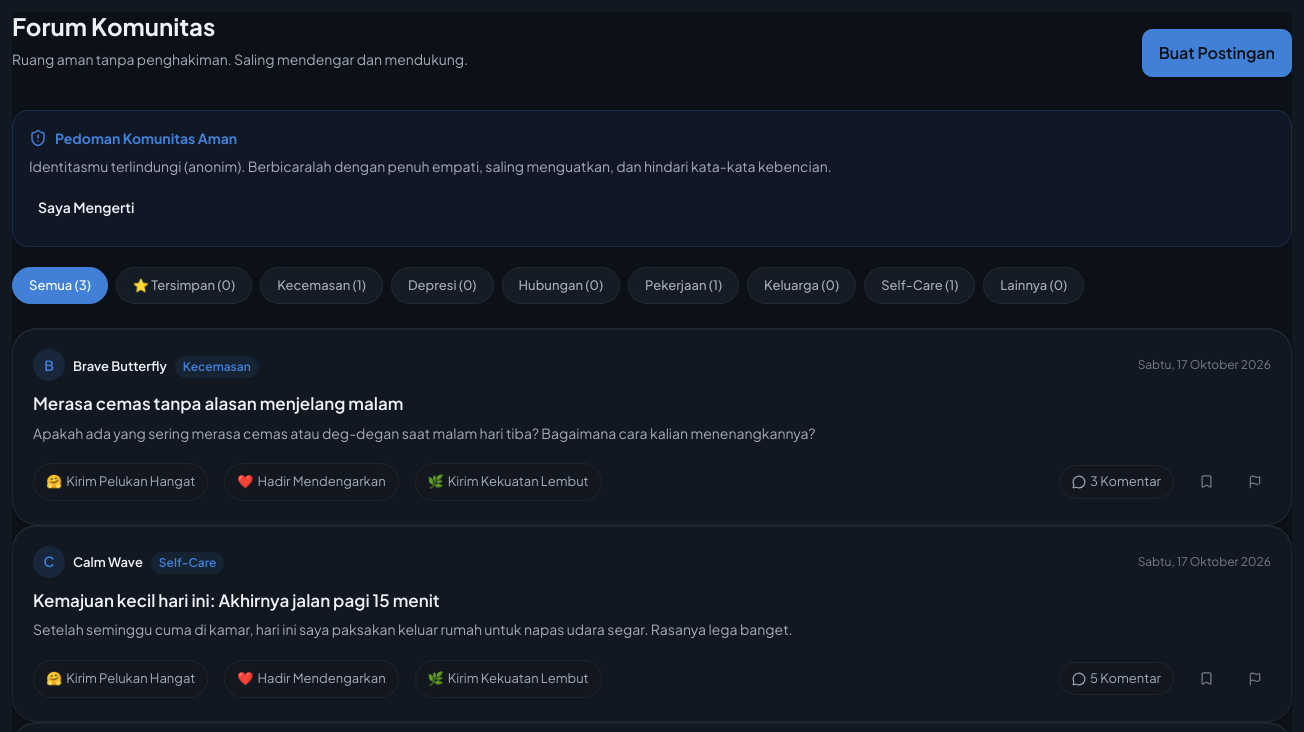
Forum Dual-Mode Gating & Quiet Support Reactions › renders quiet support resonance reactions without competitive vanity numbers
Expected: the button "❤️ Hadir Mendengarkan" below "Brave Butterfly" is shown, x1=224 y1=463 x2=399 y2=501
Expected: the button "🌿 Kirim Kekuatan Lembut" below "Brave Butterfly" is shown, x1=415 y1=463 x2=602 y2=501
// Clicking quiet support fires empathetic feedback toast
Click the button "🤗 Kirim Pelukan Hangat" below "Brave Butterfly" at (121, 482), box x1=33 y1=463 x2=208 y2=501
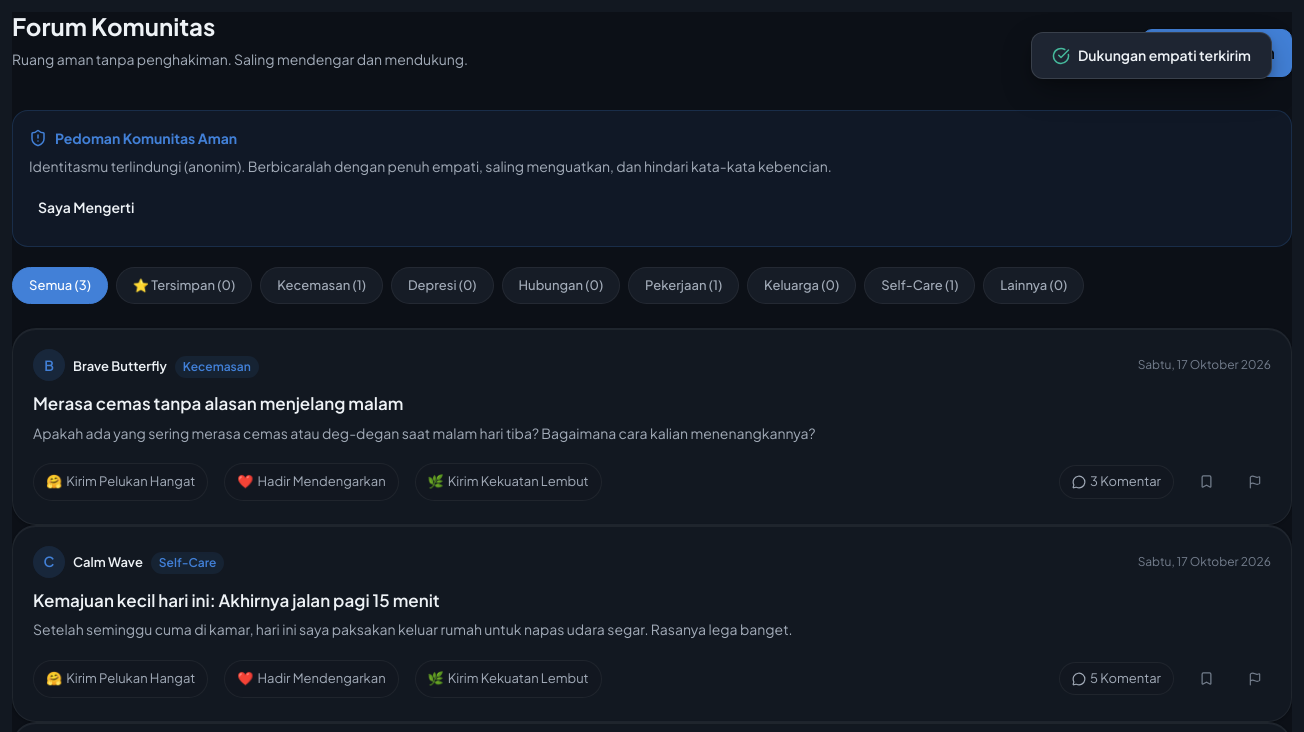
Expected: the text "Dukungan empati terkirim" is shown, x1=1078 y1=45 x2=1251 y2=66
